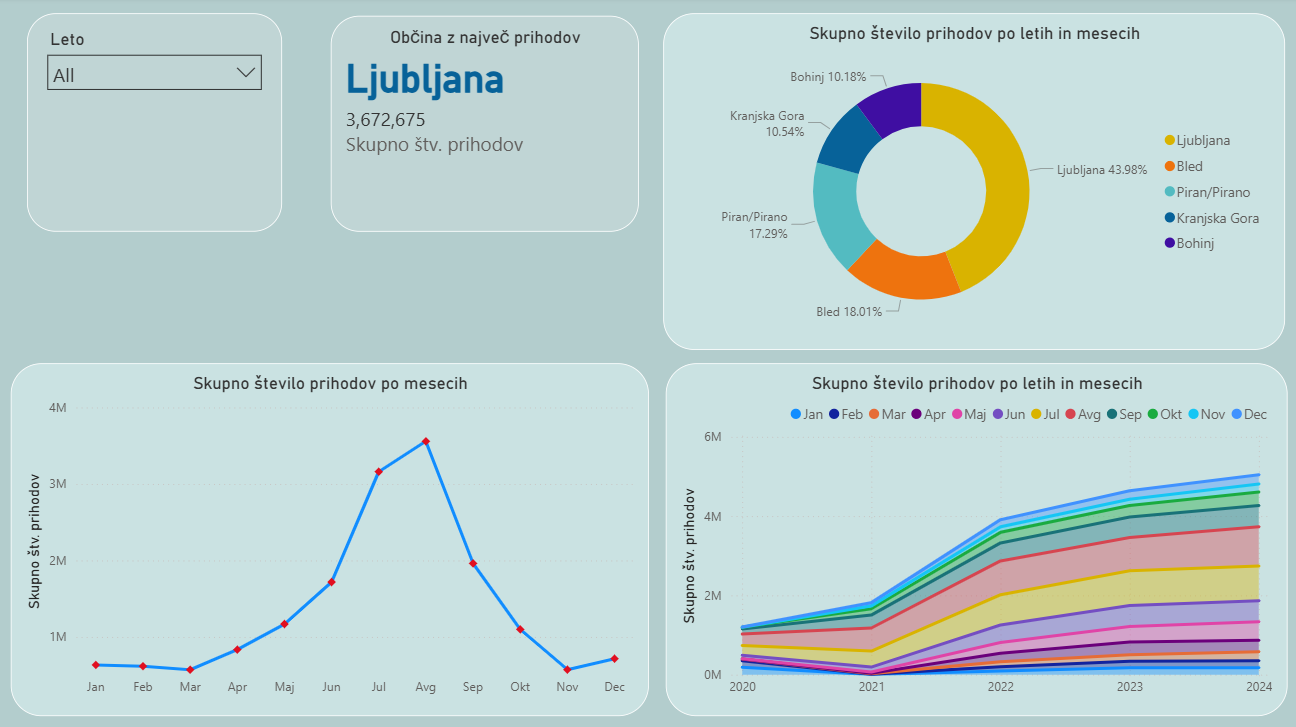

What the dashboard file says about the page in this screenshot:
{"tool":"powerbi","page":{"name":"Trendi","canvas":[1280,720],"ordinal":1},"visuals":[{"type":"lineChart","title":"Skupno število prihodov po mesecih","fields":{"Y":["Table1_1.Vrednosti"],"Category":["Table1_1.Mesec_Kraticno"]},"box":[14,360,626,346],"z":0},{"type":"stackedAreaChart","title":"Skupno število prihodov po letih in mesecih","fields":{"Category":["Table1_1.Leto"],"Y":["Table1_1.Vrednosti"],"Series":["Table1_1.Mesec_Kraticno"]},"box":[656,360,610,346],"z":1000},{"type":"donutChart","title":"Skupno število prihodov po letih in mesecih","fields":{"Y":["Table1_1.Vrednosti"],"Category":["Table1_1.Občina"]},"box":[654,16,610,330],"z":2000},{"type":"slicer","title":"Leto z največ prihodi","fields":{"Values":["Table1_1.Leto"]},"box":[30,16,250,214],"z":3000},{"type":"multiRowCard","title":"Občina z največ prihodov","fields":{"Values":["Table1_1.Občina","Table1_1.Vrednosti"]},"box":[328,18,302,212],"z":4000}]}

Visuals, with their boxes in screenshot pixels (x1, y1, x2, y2), scaled from the page's 1280x720 canvas onto the 1296x727 screenshot:
"Skupno število prihodov po mesecih" lineChart: 14 364 648 713
"Skupno število prihodov po letih in mesecih" stackedAreaChart: 664 364 1282 713
"Skupno število prihodov po letih in mesecih" donutChart: 662 16 1280 349
"Leto z največ prihodi" slicer: 30 16 284 232
"Občina z največ prihodov" multiRowCard: 332 18 638 232
